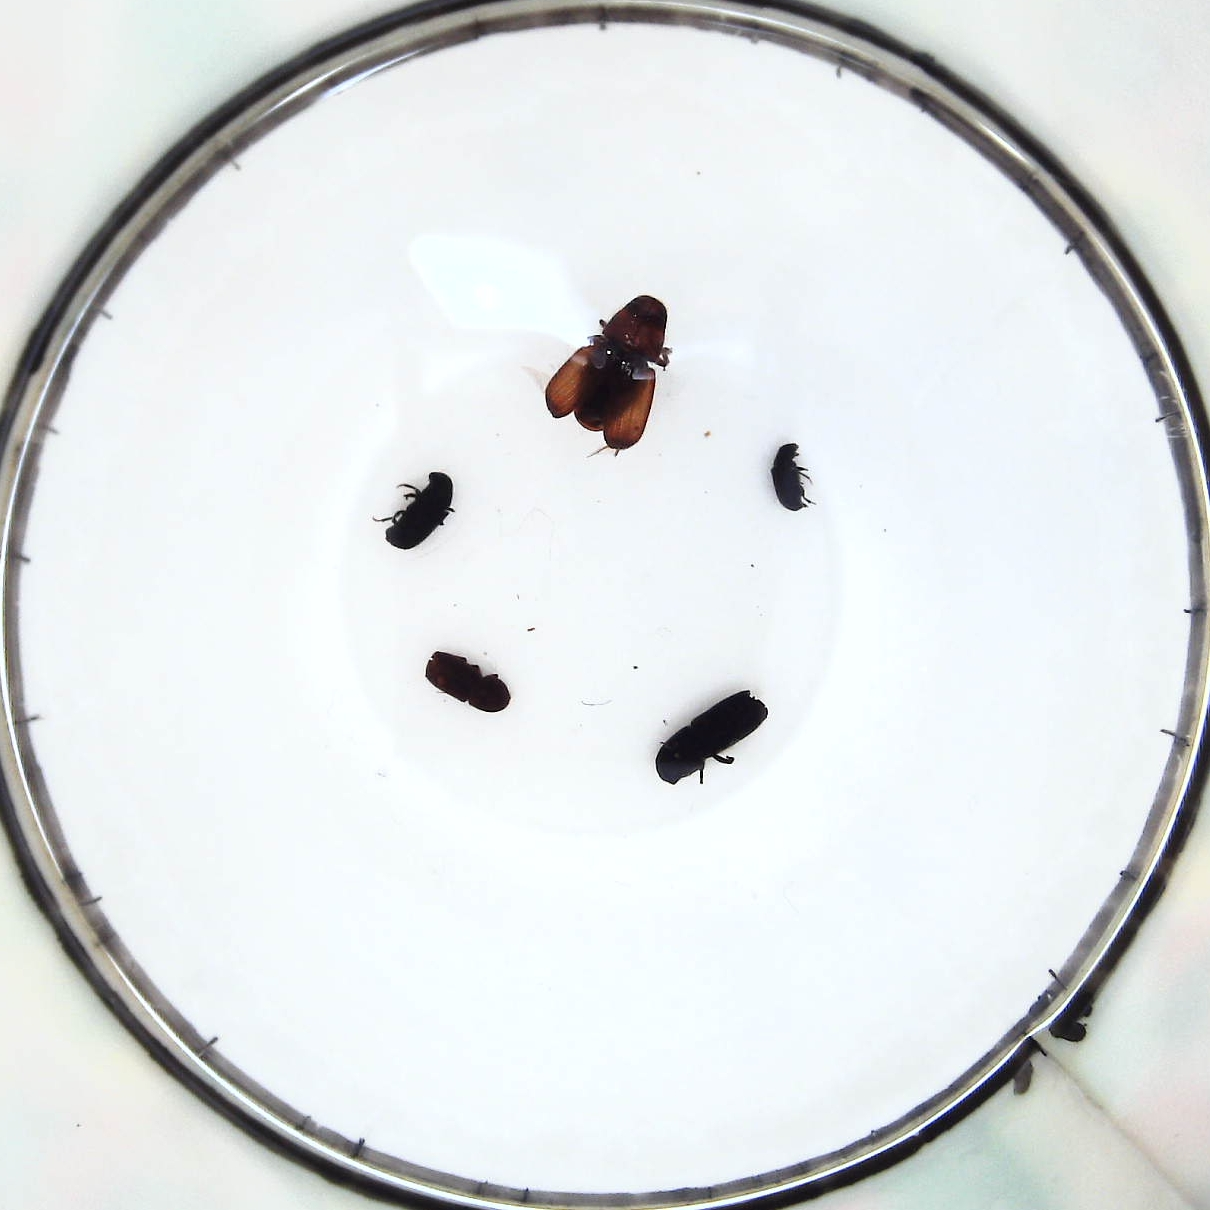Boerner: (653, 694, 767, 794)
Leconte: (543, 294, 670, 452)
Linnaeus: (428, 654, 514, 712)
armandi: (389, 469, 455, 550)
coleoptera: (765, 440, 814, 515)
